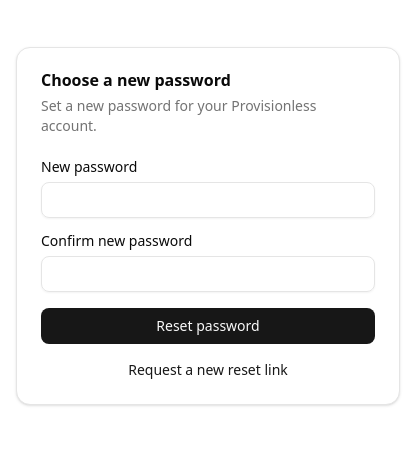
Test: reports network failures without redirecting
Type "new-lovelace" into the password field labelled "New password" at (208, 200), box [41,182,375,218]
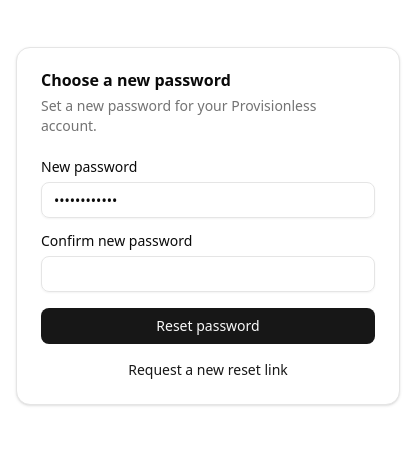
Type "new-lovelace" into the password field labelled "Confirm new password" at (208, 274), box [41,256,375,292]
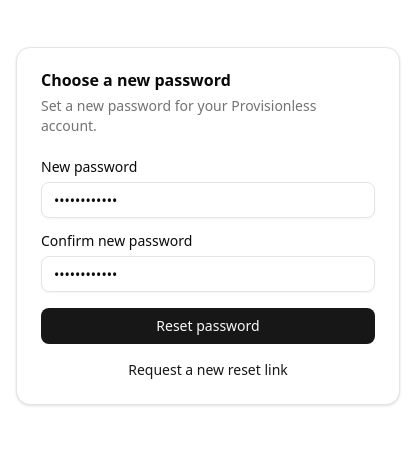
Click the button "Reset password" at (208, 326), box [41,308,375,344]
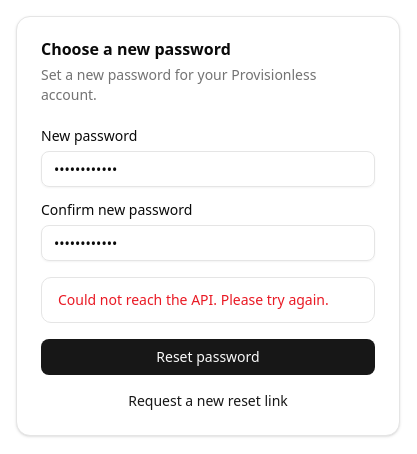
expect the message reads "Could not reach the API. Please try again.": met, box [58,290,329,309]
